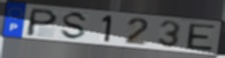1: (100, 15, 113, 44)
2: (124, 17, 151, 46)
3: (158, 19, 183, 50)
E: (186, 23, 217, 52)
P: (24, 7, 60, 38)
S: (59, 11, 90, 42)
